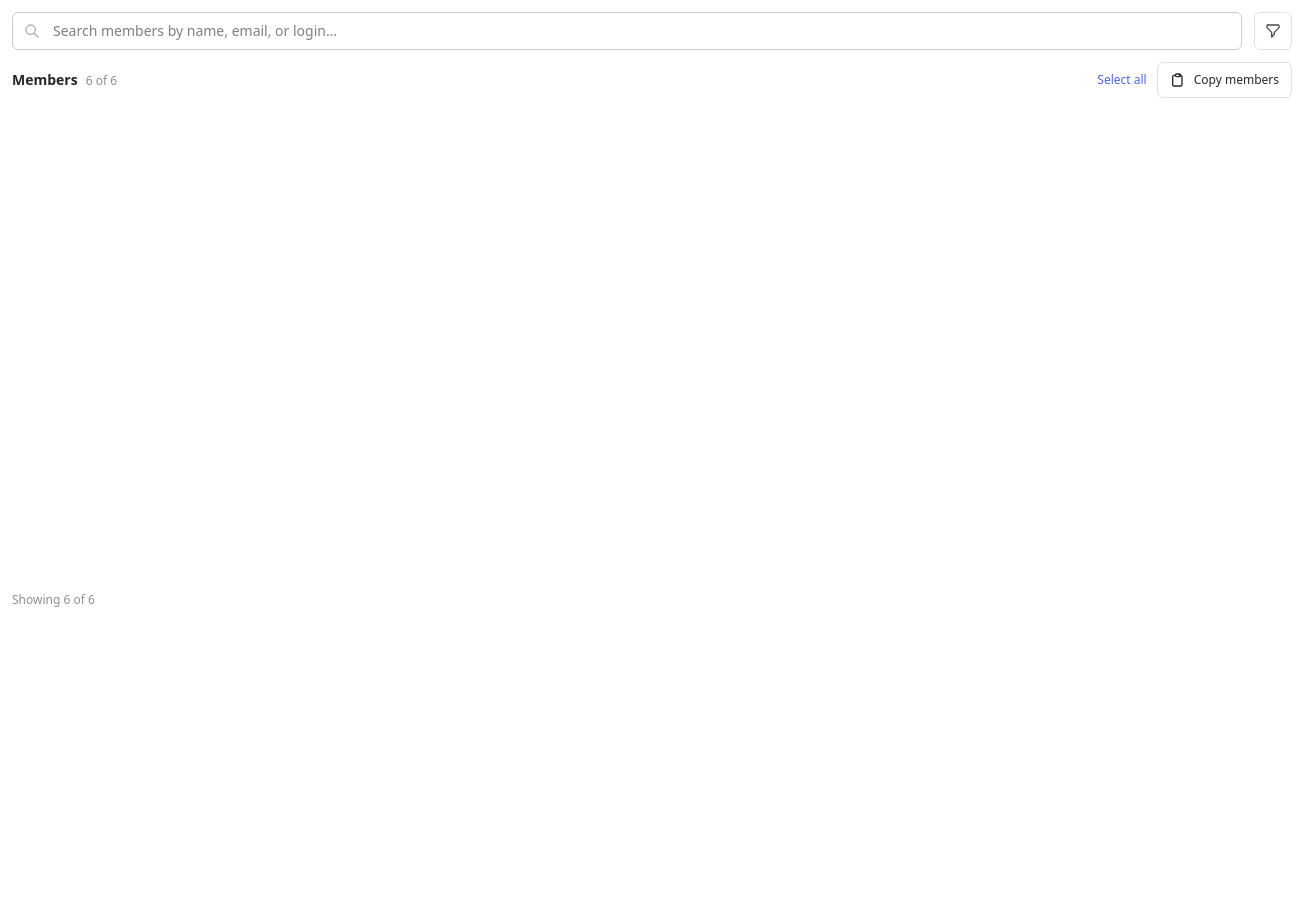
Scenario: MemberExplorer filtering › removes one filter from its chip and leaves the others applied
Click the button named "Filters" at (1273, 31), box [1254,12,1292,50]
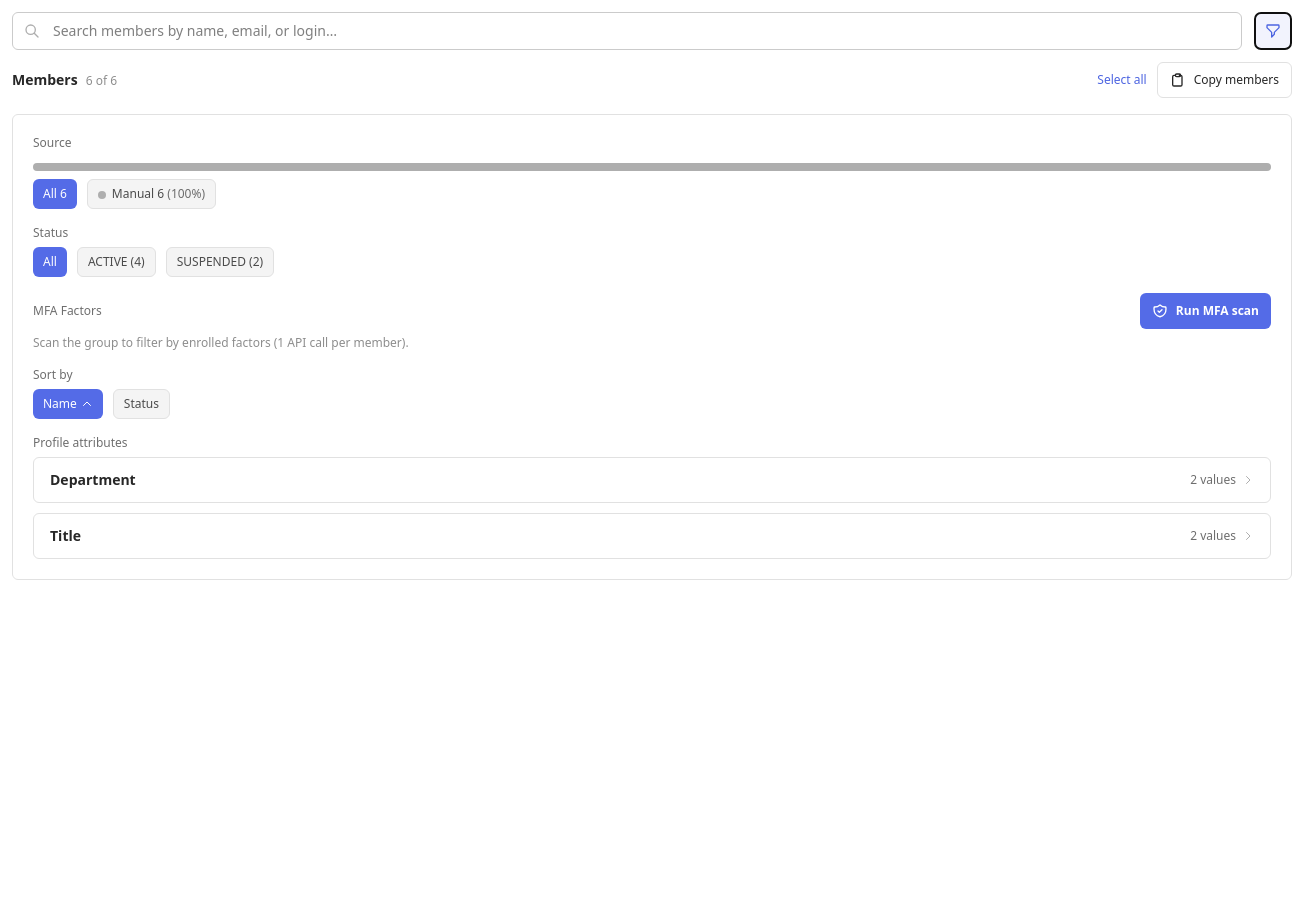
Click the button "Manual 6 (100%)" at (152, 194), box [87,179,216,209]
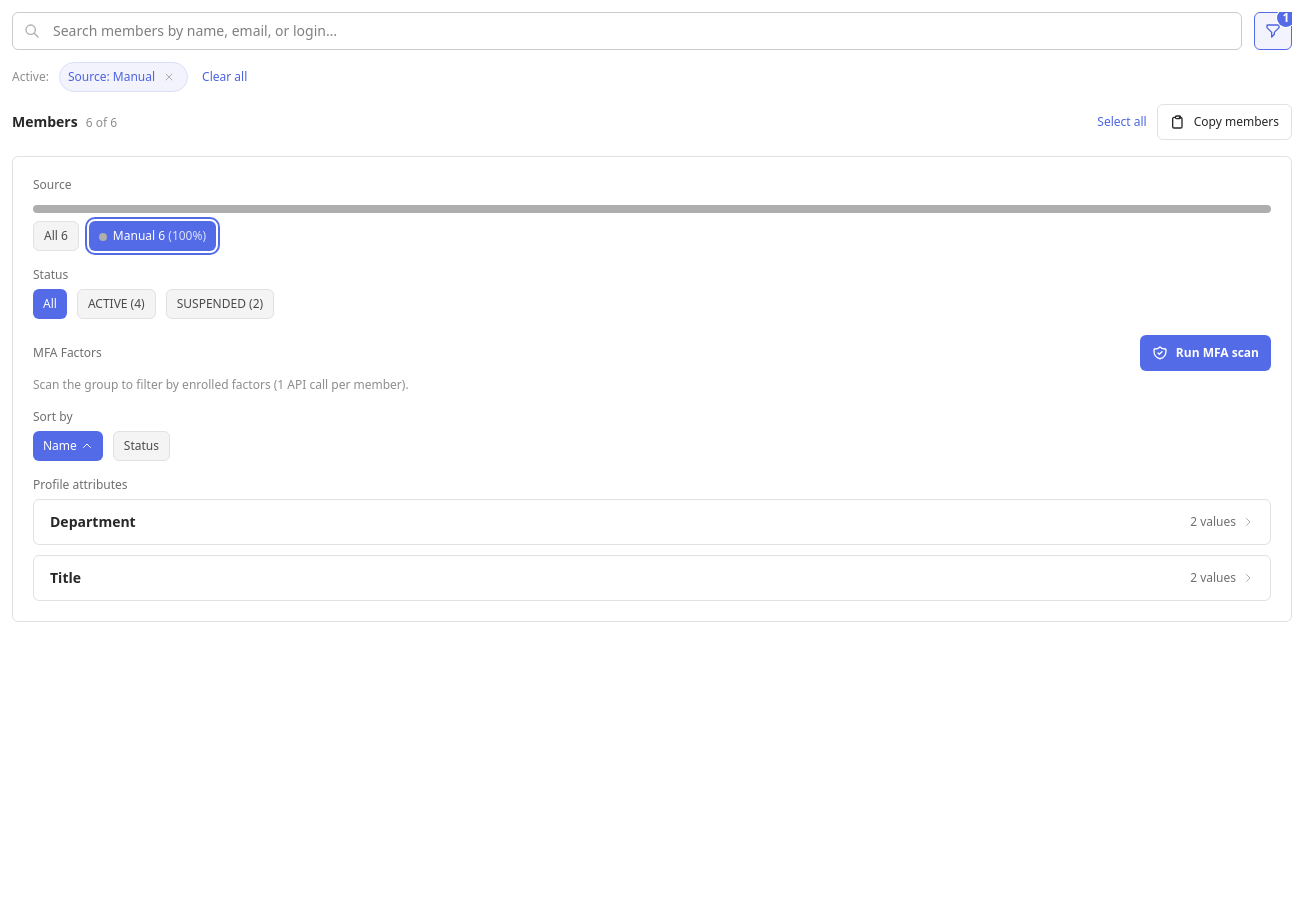
Click the button "SUSPENDED (2)" at (220, 304), box [166,289,274,319]
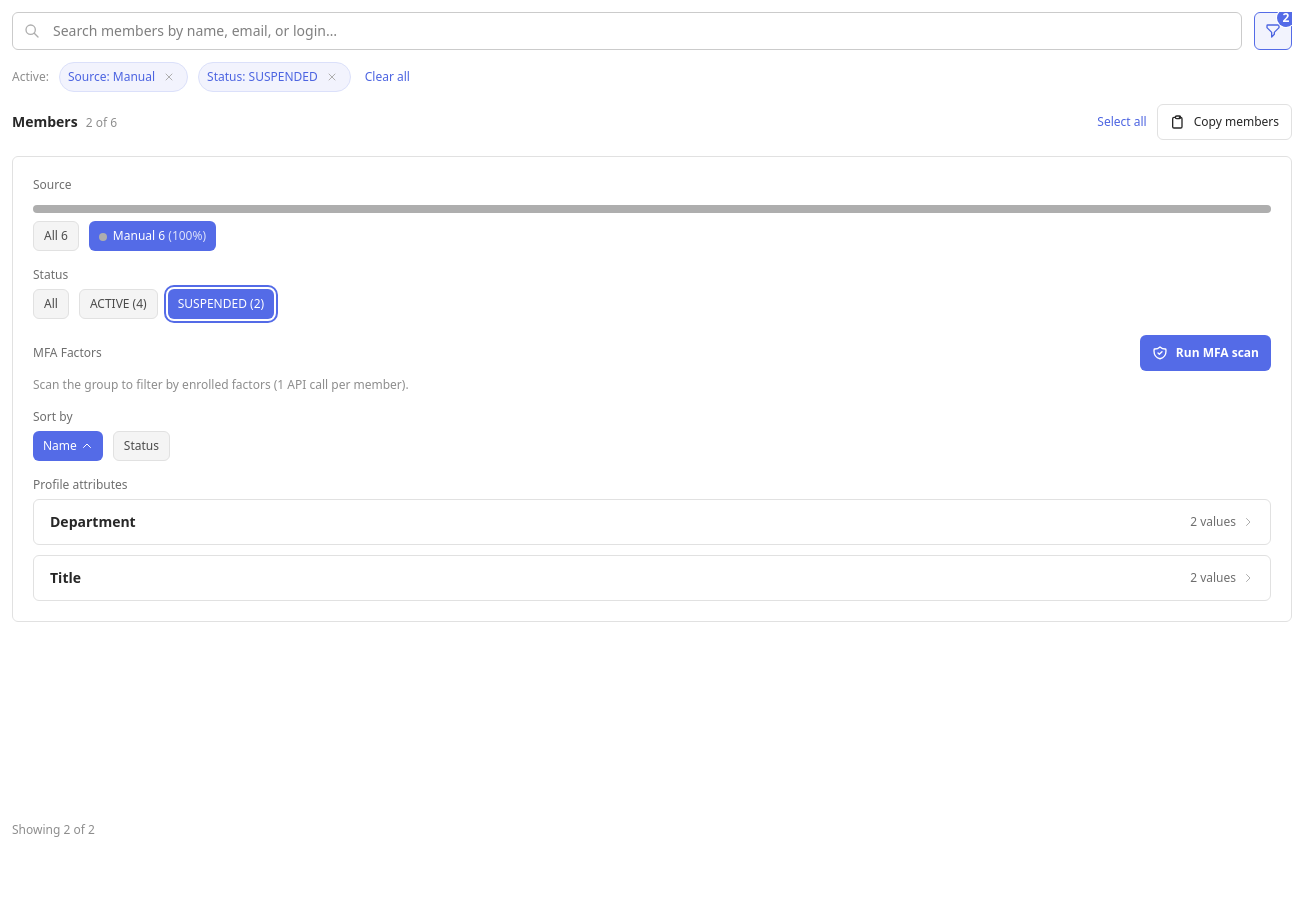
Expected: the text "2 of 6" is shown, [86,114,117,131]
Click the button named "Remove Status: SUSPENDED filter" at (332, 77), box [322,67,342,87]
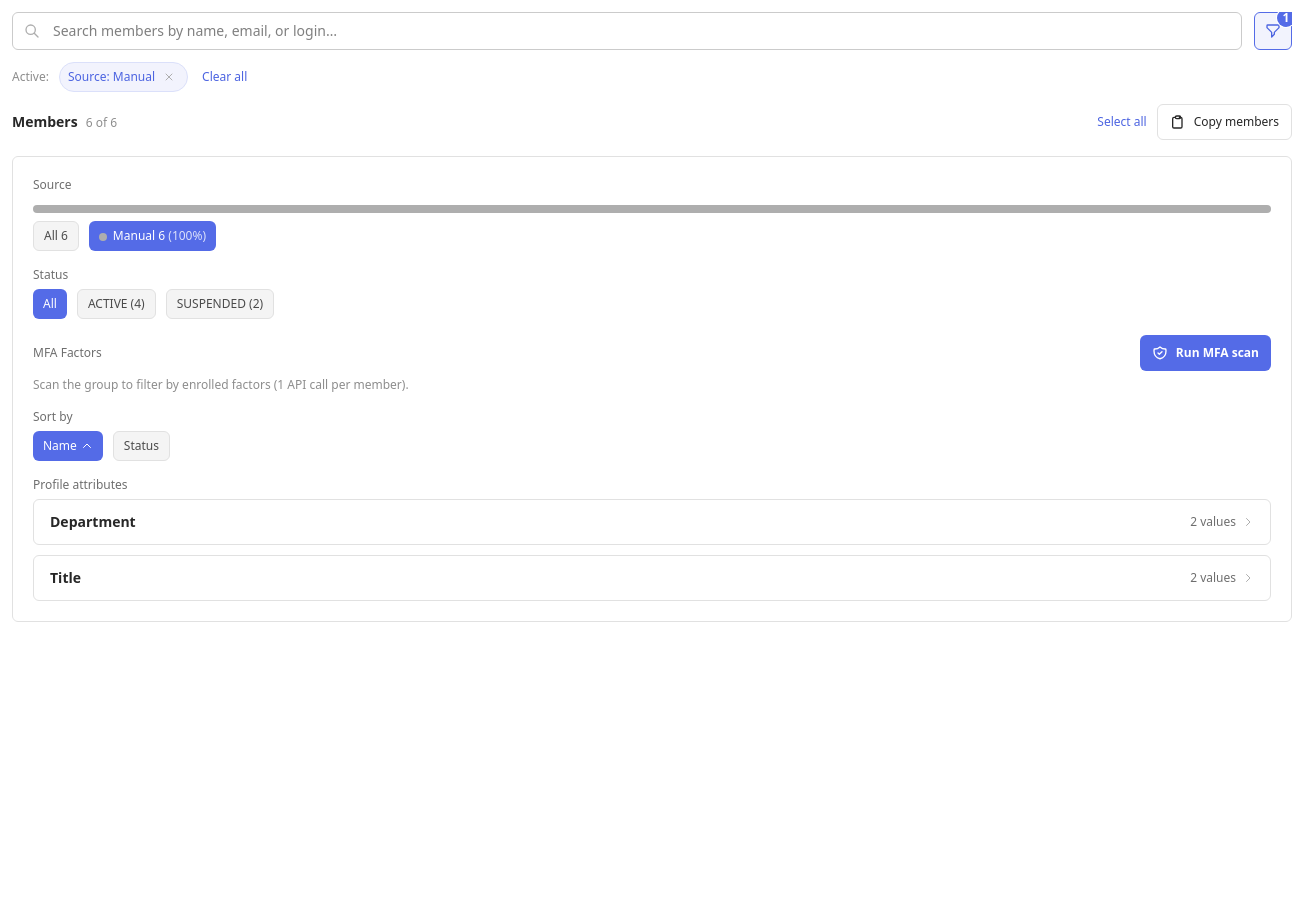
Expected: the text "Source: Manual" is shown, [59,62,188,92]
Expected: the text "6 of 6" is shown, [86,114,117,131]
Expected: the text "Status: SUSPENDED" is gone
